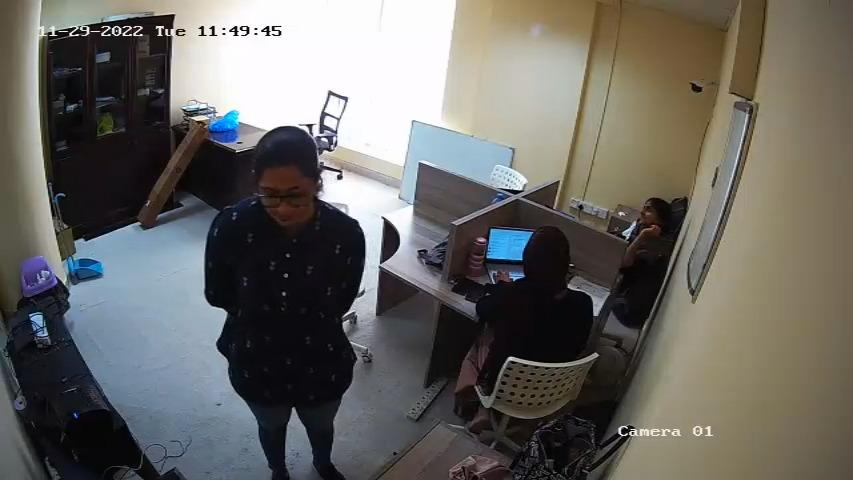no_apron: (223, 229, 348, 415)
